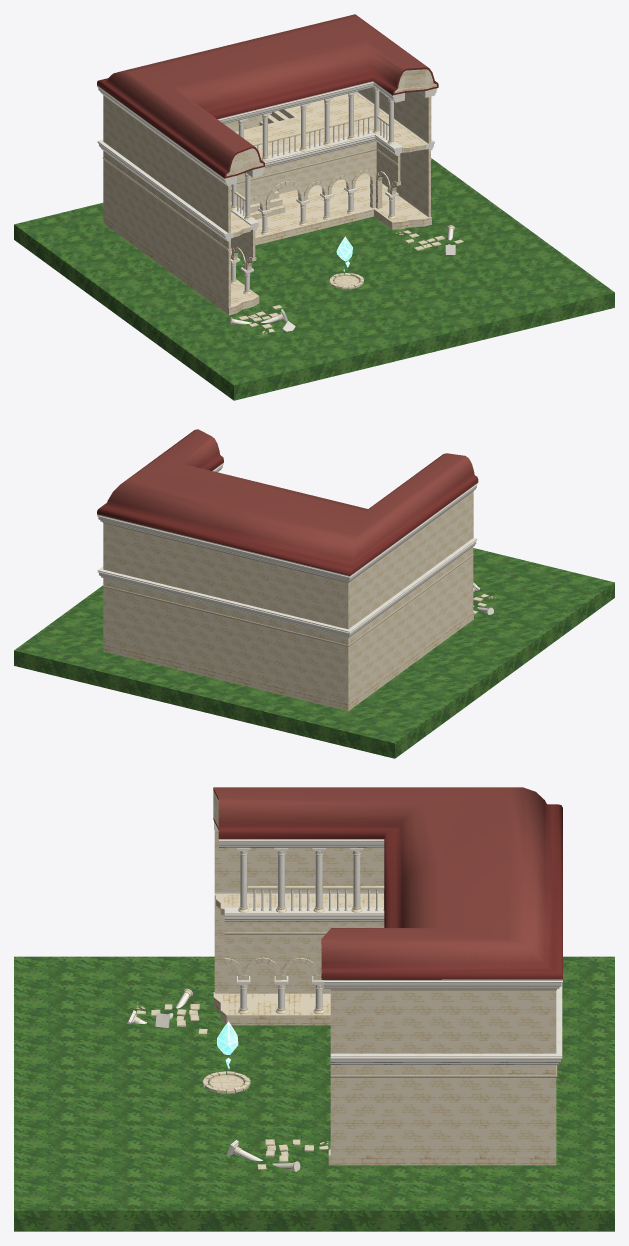
The model's file is env_temple.glb.
The picture shows the model from 3 angles, top to bottom: view 1: azimuth 30°, elevation 25°; view 2: azimuth 150°, elevation 25°; view 3: azimuth 270°, elevation 25°; orthographic projection. The views are drawn at different scales.
Visible parts, largest first — view 1: Temple_ruins_TrimSheet1024_0; view 2: Temple_ruins_TrimSheet1024_0; view 3: Temple_ruins_TrimSheet1024_0.
Boxes of the visible parts, x1=… form: Temple_ruins_TrimSheet1024_0: x1=14, y1=14, x2=614, y2=400; Temple_ruins_TrimSheet1024_0: x1=14, y1=429, x2=614, y2=758; Temple_ruins_TrimSheet1024_0: x1=14, y1=787, x2=614, y2=1231.
Size of the model in its own units: 0.7261 by 0.3217 by 0.7261.
7 materials, 7 textured.
